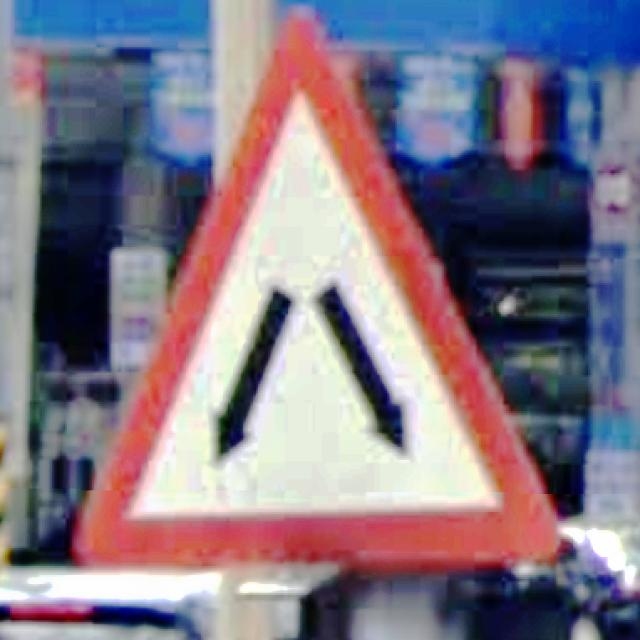diverge: (74, 11, 563, 573)
